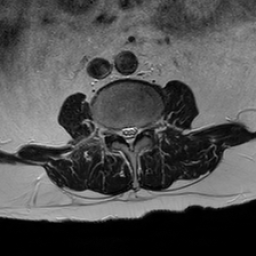CCS_normal: (125, 118, 132, 155)
LFS_stenosis: (139, 116, 147, 140)
LLS_normal: (132, 117, 139, 145)
RFS_stenosis: (109, 117, 117, 144)
RLS_normal: (117, 120, 125, 146)
